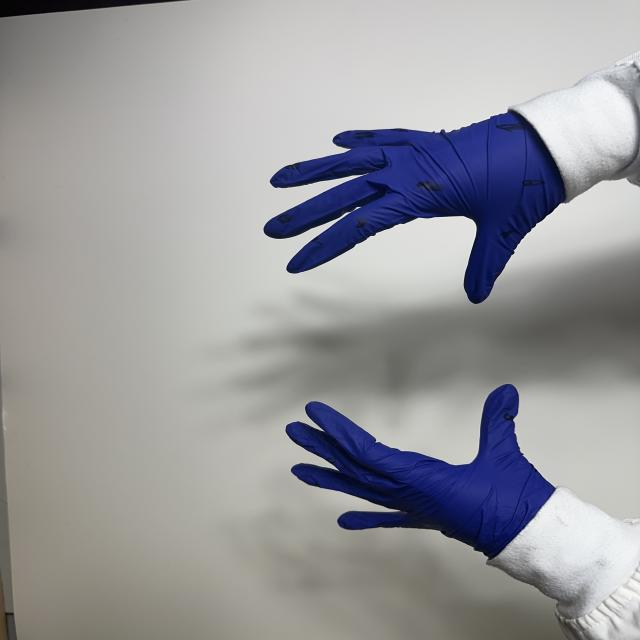gloves_contaminated: (265, 114, 565, 304), (286, 385, 552, 557)
